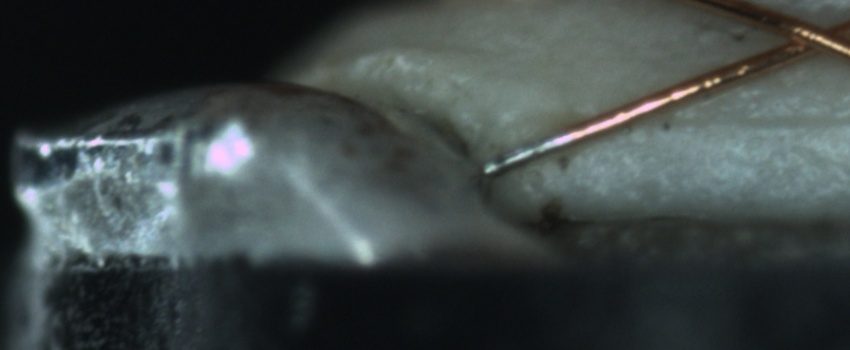CL: (758, 6, 850, 66)
DL: (636, 95, 850, 159)
TS: (481, 129, 570, 180)
